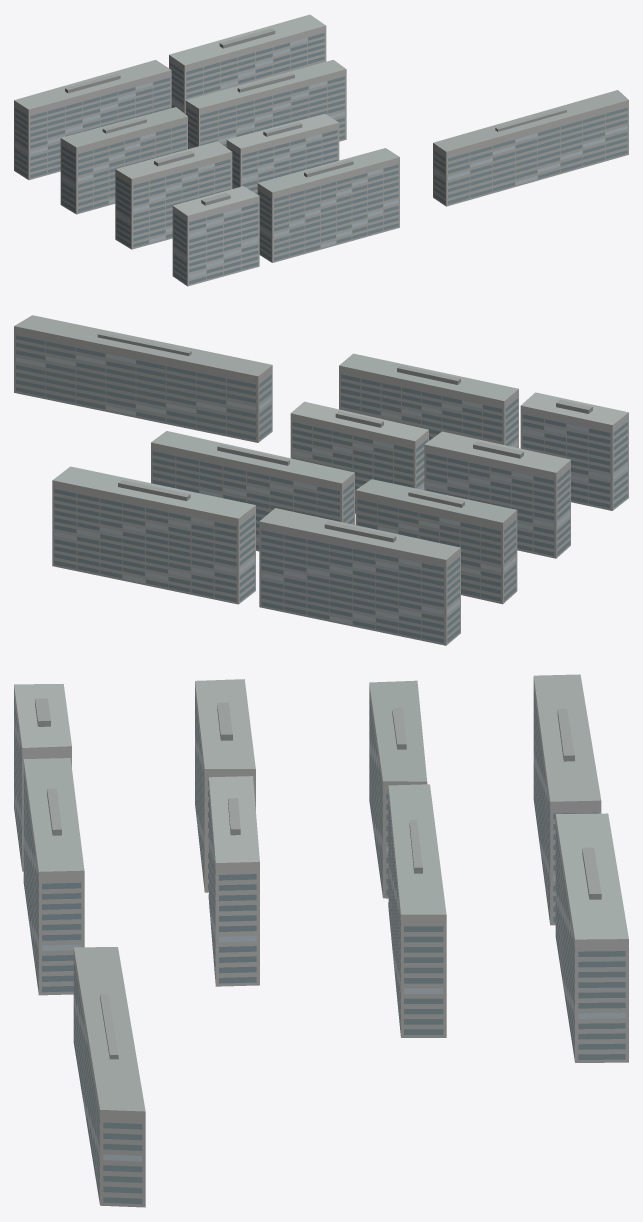
The model's file is apt-a13276416.glb.
3 renders of one model, top to bottom at view 1: azimuth 30°, elevation 25°; view 2: azimuth 150°, elevation 25°; view 3: azimuth 270°, elevation 25°, orthographic. The views are drawn at different scales.
Visible parts, largest first — view 1: apt-a13276416; view 2: apt-a13276416; view 3: apt-a13276416.
Part boxes in pixels (bbox=[...]): apt-a13276416: bbox=[14, 14, 628, 286]; apt-a13276416: bbox=[14, 315, 628, 645]; apt-a13276416: bbox=[14, 674, 628, 1207].
Bounding box in the file's own units: 251 × 37 × 159.
